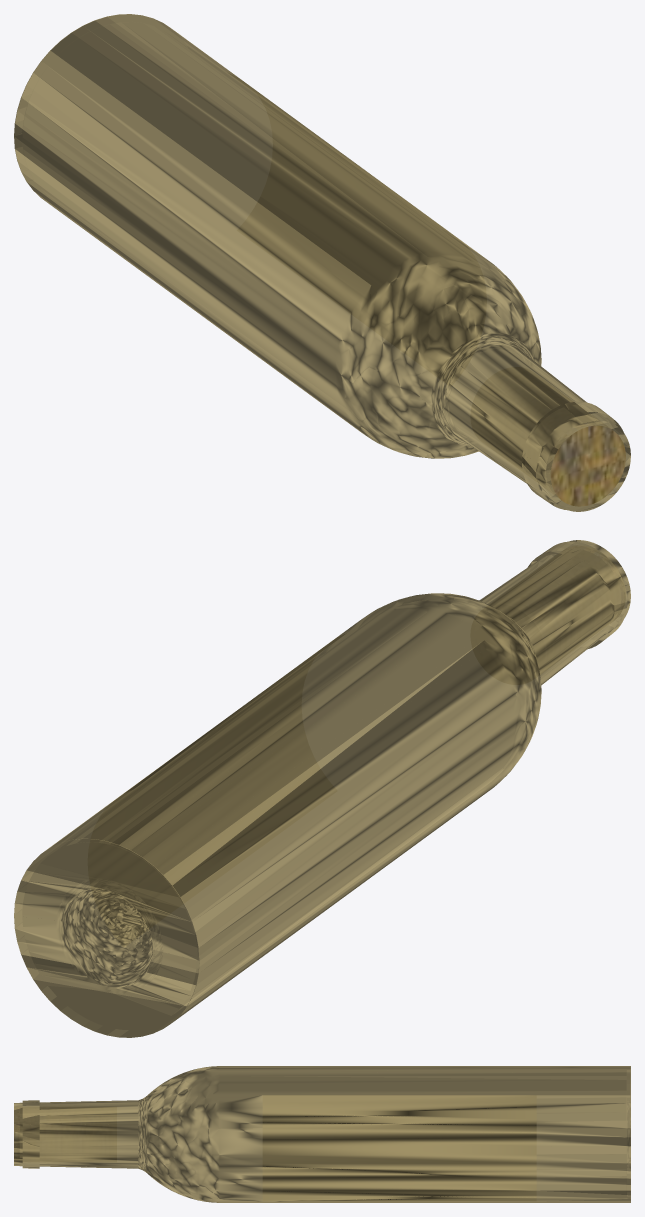
File: model_align.obj
3 views of the same model, one above another, from view 1: azimuth 30°, elevation 25°; view 2: azimuth 150°, elevation 25°; view 3: azimuth 270°, elevation 25° (orthographic). The views are drawn at different scales.
Bounding box in the file's own units: 0.0589 × 0.0589 × 0.2649.
